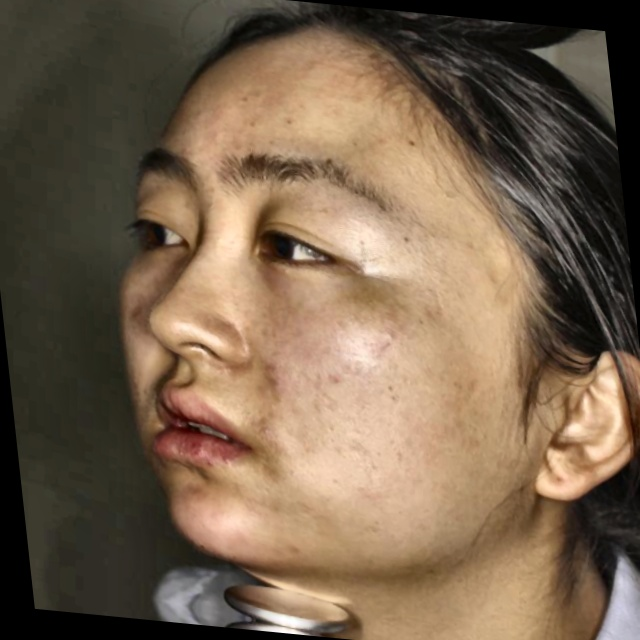comedone: (257, 355, 295, 398)
